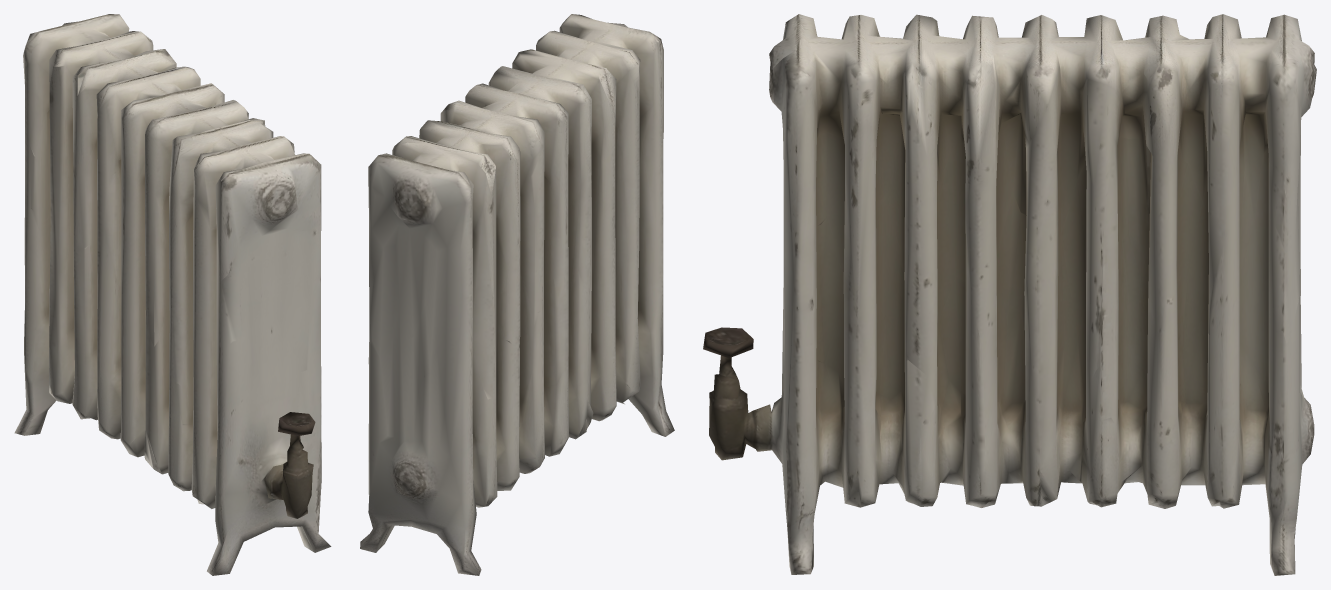
Rendered from termosifone.glb.
3 views of the same model, side by side, from view 1: azimuth 30°, elevation 25°; view 2: azimuth 150°, elevation 25°; view 3: azimuth 270°, elevation 25° (orthographic). The views are drawn at different scales.
Visible parts, largest first — view 1: tripo_node_a4651a9c-67dc-4485-b96c-fdb8b4450712; view 2: tripo_node_a4651a9c-67dc-4485-b96c-fdb8b4450712; view 3: tripo_node_a4651a9c-67dc-4485-b96c-fdb8b4450712.
Boxes of the visible parts, <box> form: tripo_node_a4651a9c-67dc-4485-b96c-fdb8b4450712: <box>14,14,331,575</box>; tripo_node_a4651a9c-67dc-4485-b96c-fdb8b4450712: <box>360,14,674,575</box>; tripo_node_a4651a9c-67dc-4485-b96c-fdb8b4450712: <box>703,14,1316,575</box>.
Size of the model in its own units: 0.2362 by 0.75 by 0.8274.
Materials: 1 (1 with a texture image).
